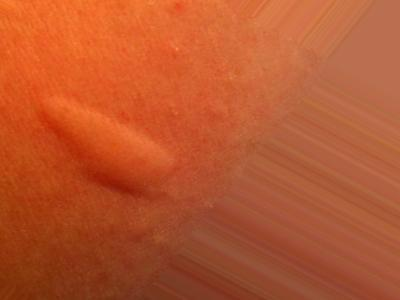Mosquito: (16, 79, 183, 212)
